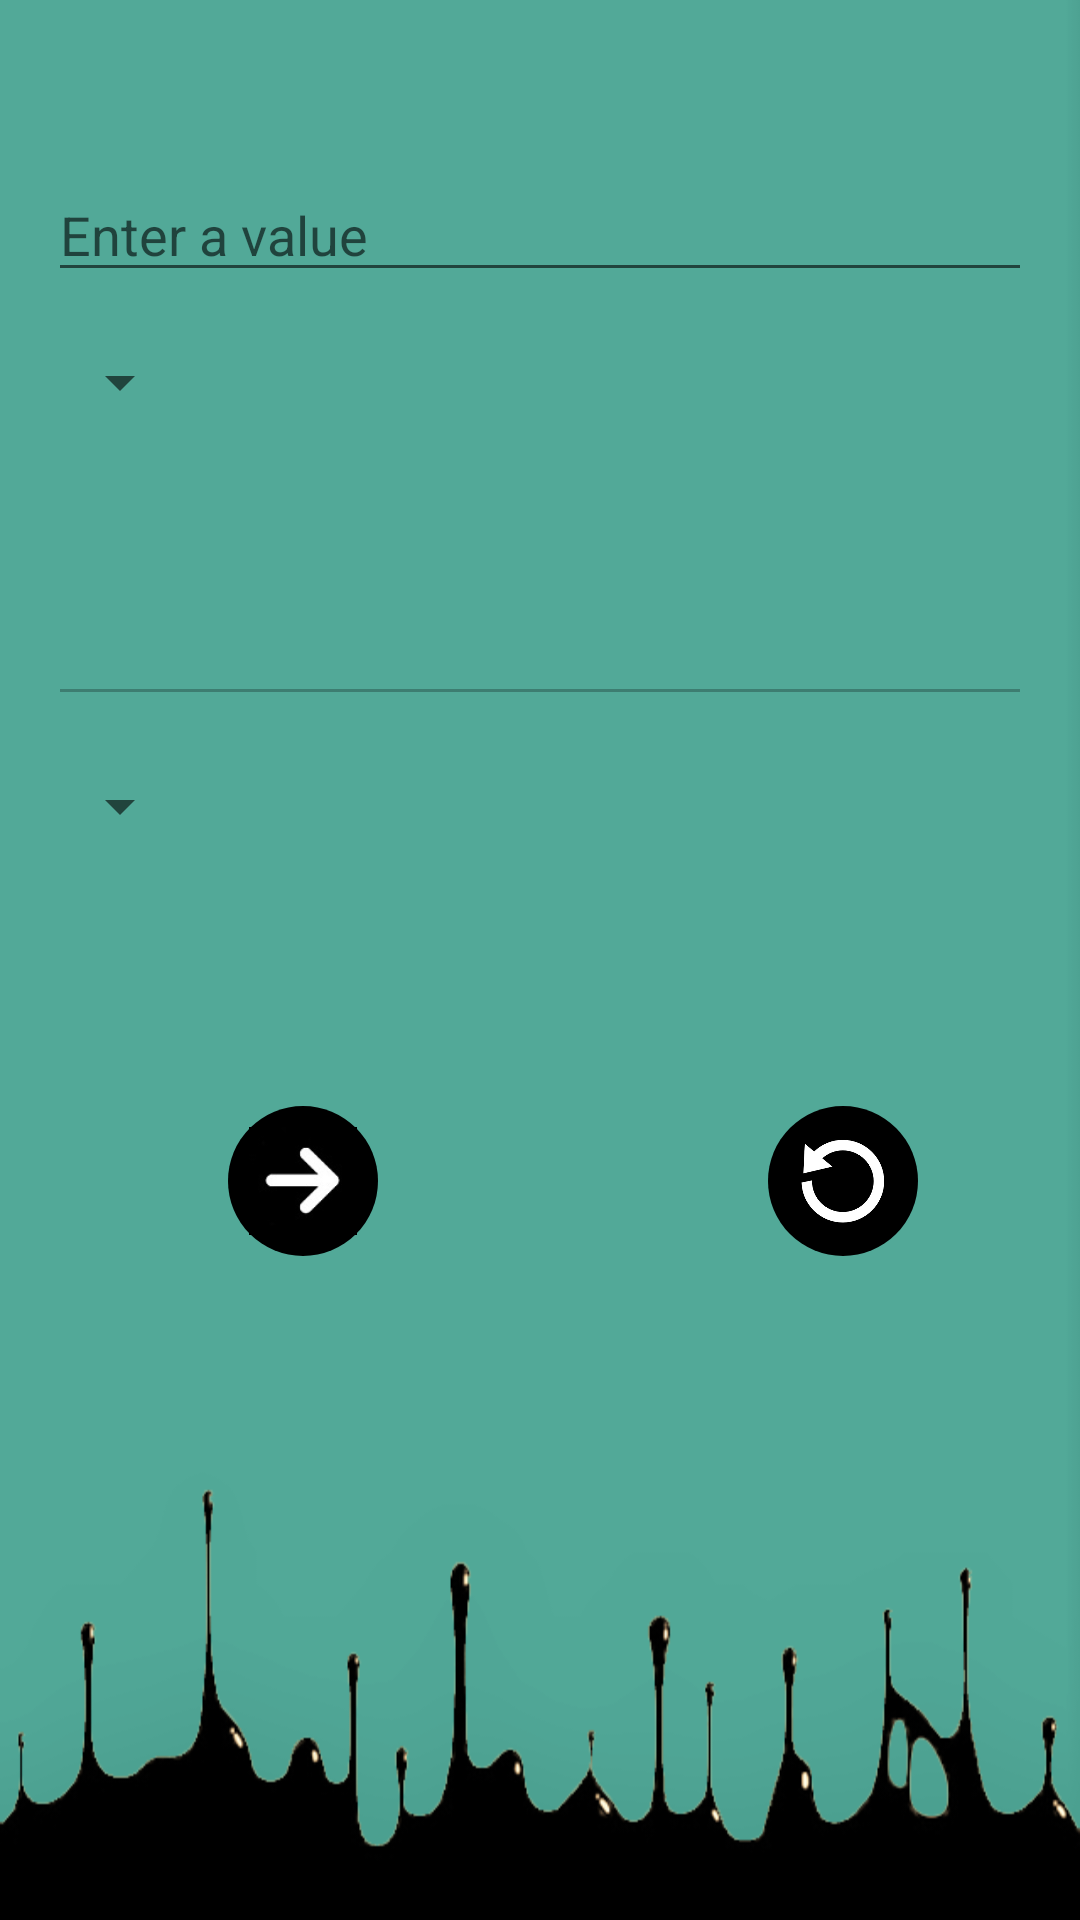

Icons on this 1080x1920 Android screen, each with its box as [left=x1, top=y1, right=x2, bottom=y2]:
next: [left=228, top=1106, right=378, bottom=1256]
reset: [left=768, top=1106, right=918, bottom=1256]
